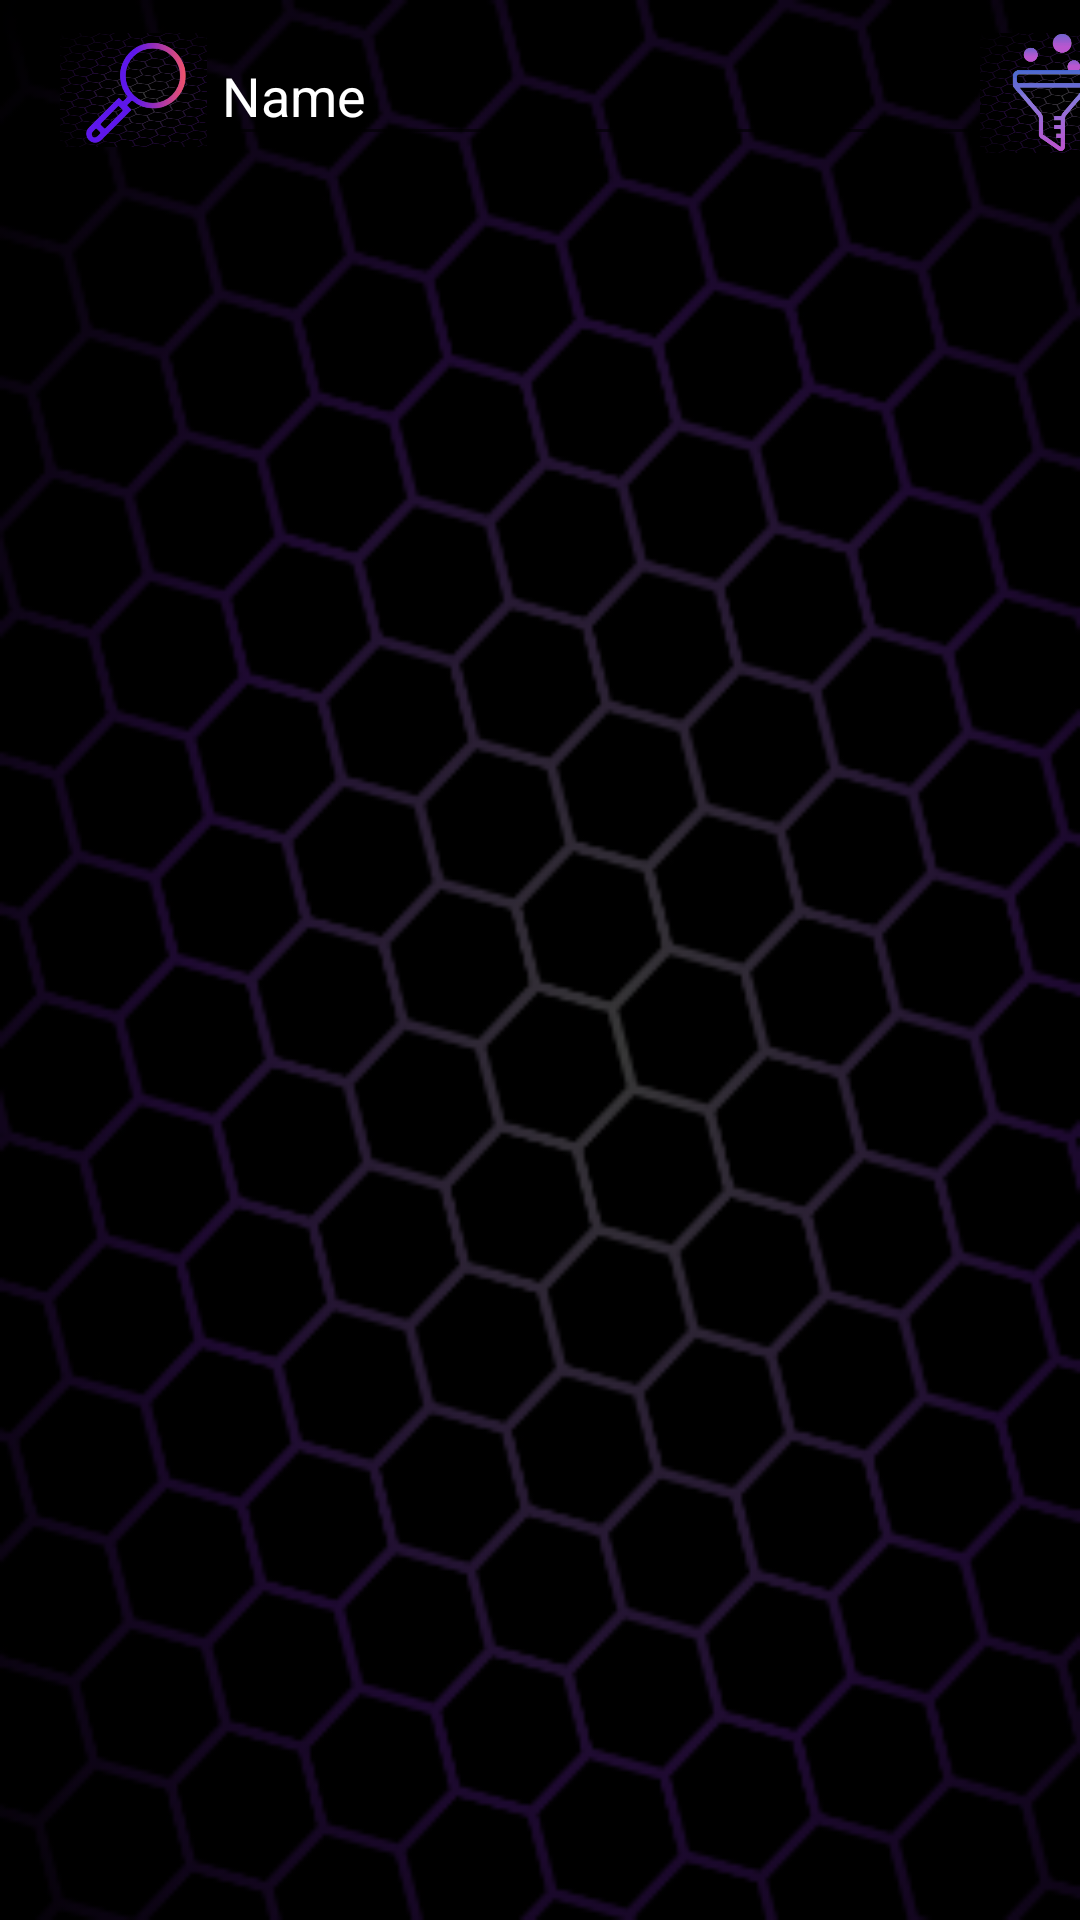

Icon bounding boxes for this 1080px x 1920px phone screenshot, format region(x1, y1, x2, y2):
iconobuscar: region(60, 33, 207, 147)
